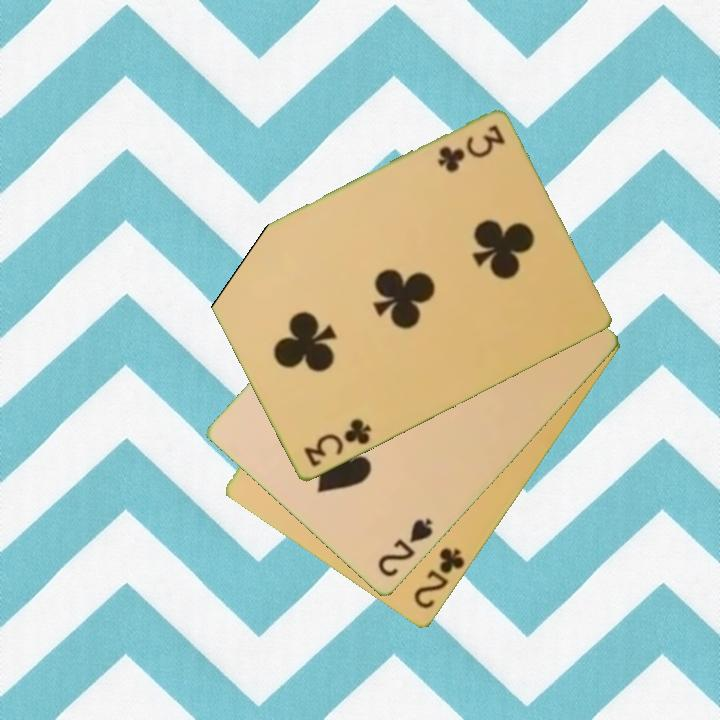2c: (410, 544, 468, 613)
2s: (374, 515, 436, 581)
3c: (300, 415, 374, 470), (434, 122, 508, 175)
